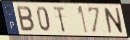0: (36, 6, 52, 33)
1: (77, 5, 90, 35)
7: (87, 7, 102, 35)
B: (16, 5, 36, 33)
N: (103, 7, 125, 35)
T: (52, 5, 67, 34)
